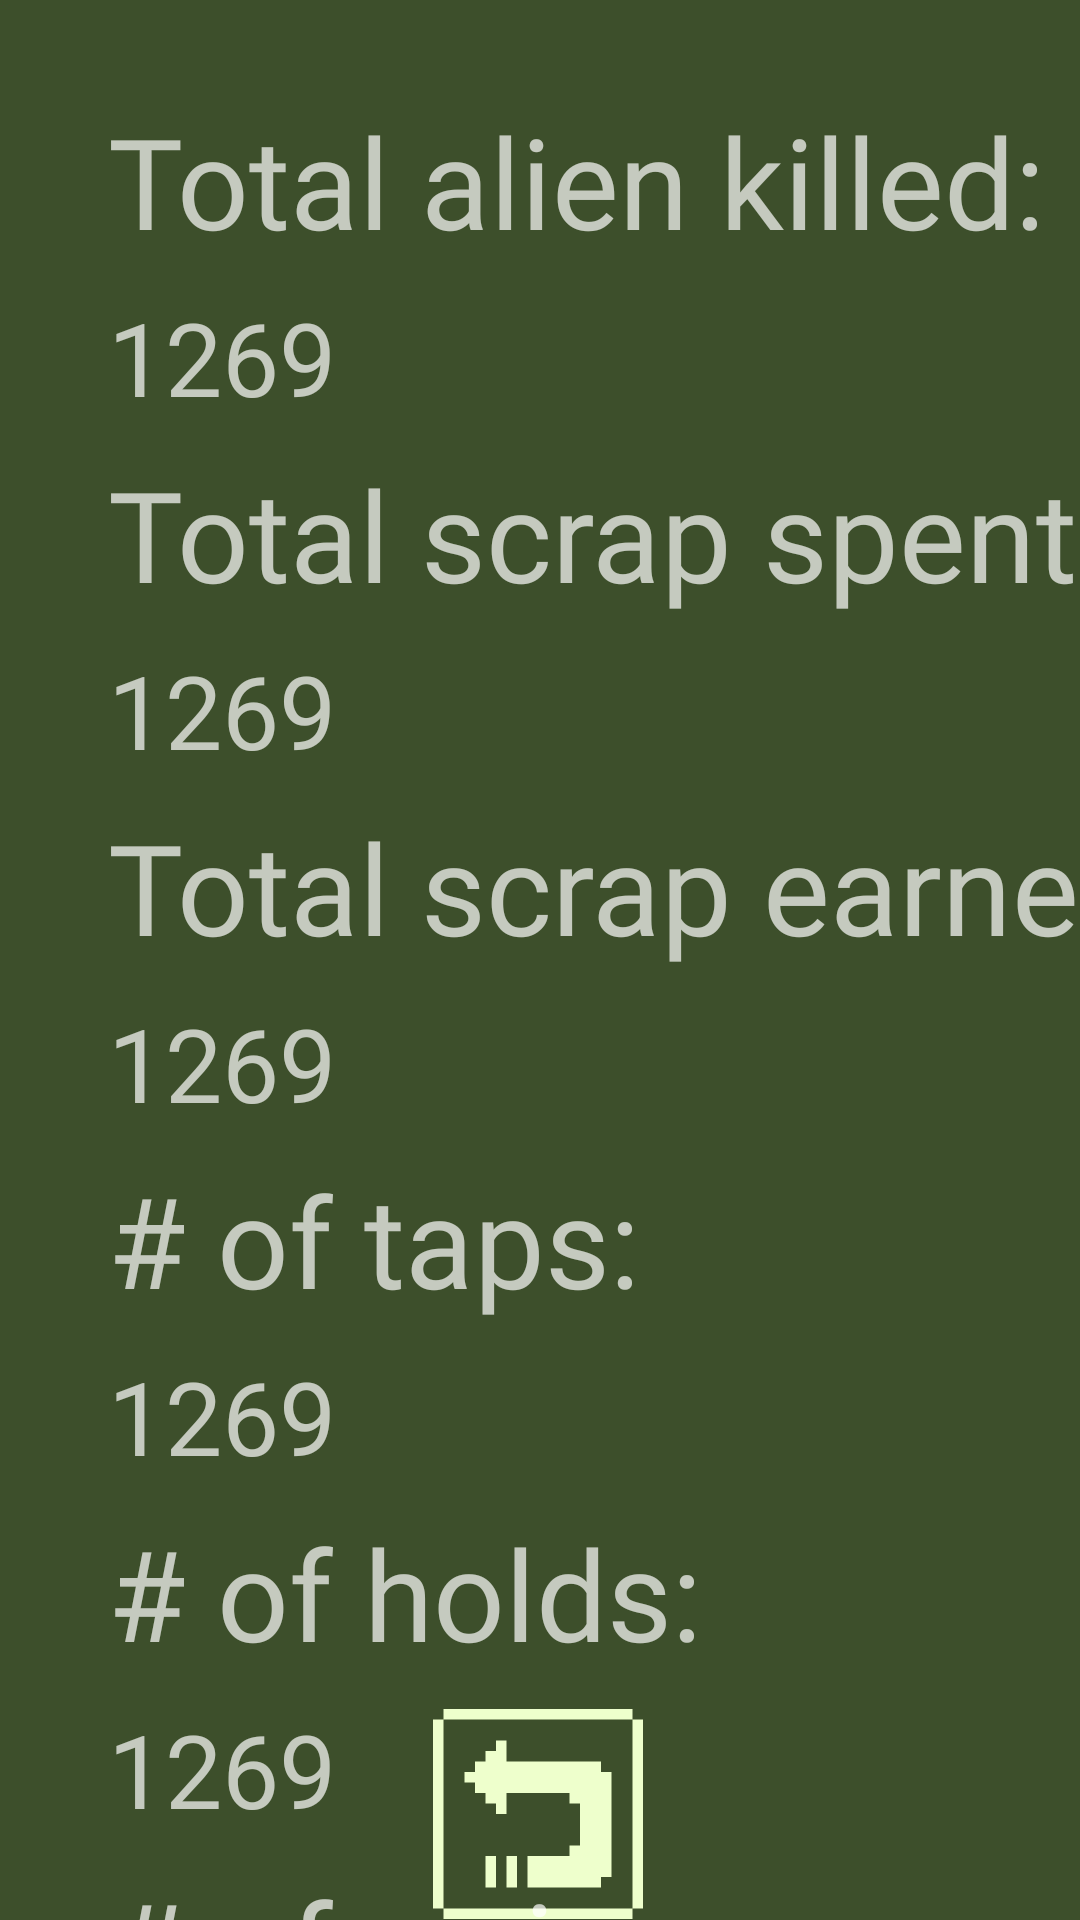

Named icons in this screenshot (1080 × 1920) and their centers, (x=x, y=y):
back: (x=538, y=1814)
